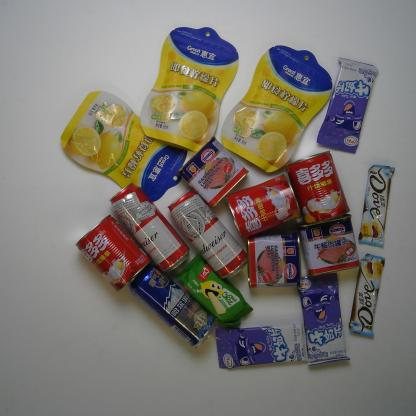Alcohol: (126, 262, 218, 348), (167, 188, 249, 280), (110, 183, 189, 273)
Candy: (317, 57, 378, 152), (296, 271, 351, 366), (216, 322, 318, 368)
Canned Food: (74, 215, 152, 291), (225, 173, 301, 241), (178, 138, 248, 207), (286, 152, 348, 224), (299, 213, 361, 277), (246, 233, 301, 287)
Chocolate: (349, 253, 385, 339), (358, 164, 394, 247)
Dessert: (175, 254, 252, 330)
Dried Fruit: (221, 45, 332, 173), (60, 91, 188, 201), (140, 26, 238, 153)
